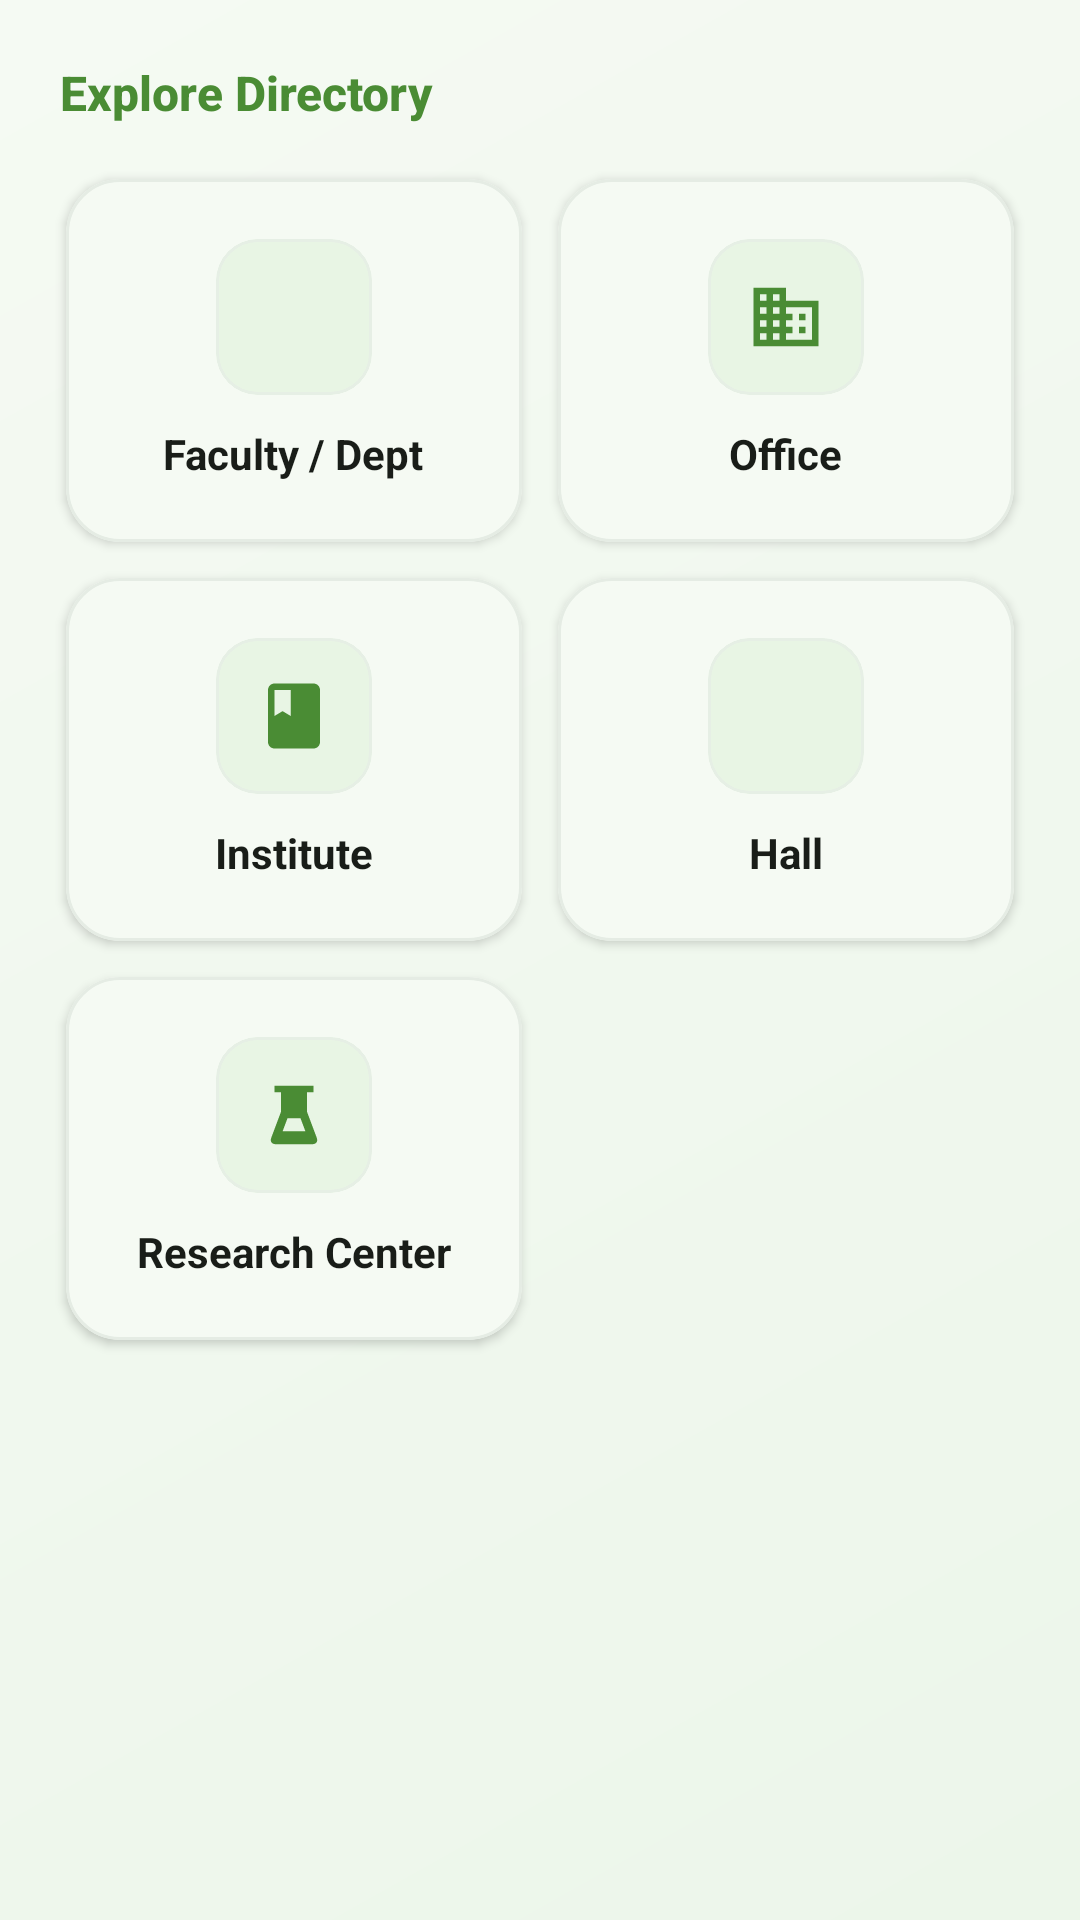

Point at icon controls on the screen. Image size 1080w x 1920h, points as [x,y].
book: [294,716]
